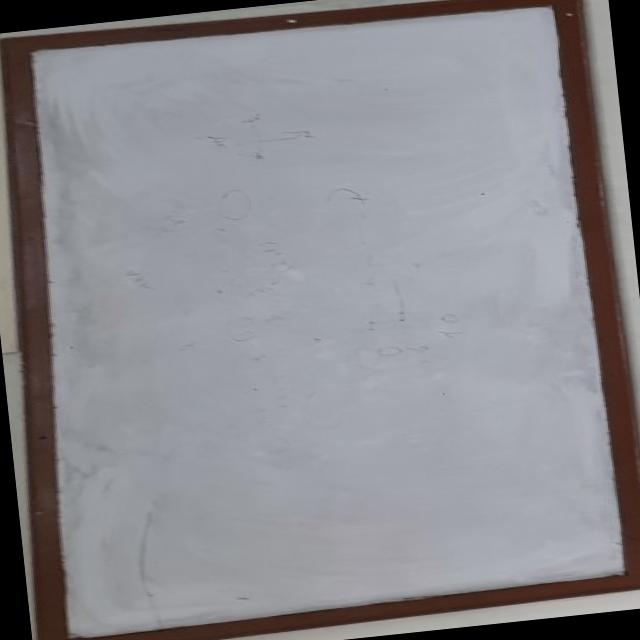White-board: (19, 0, 640, 640)
